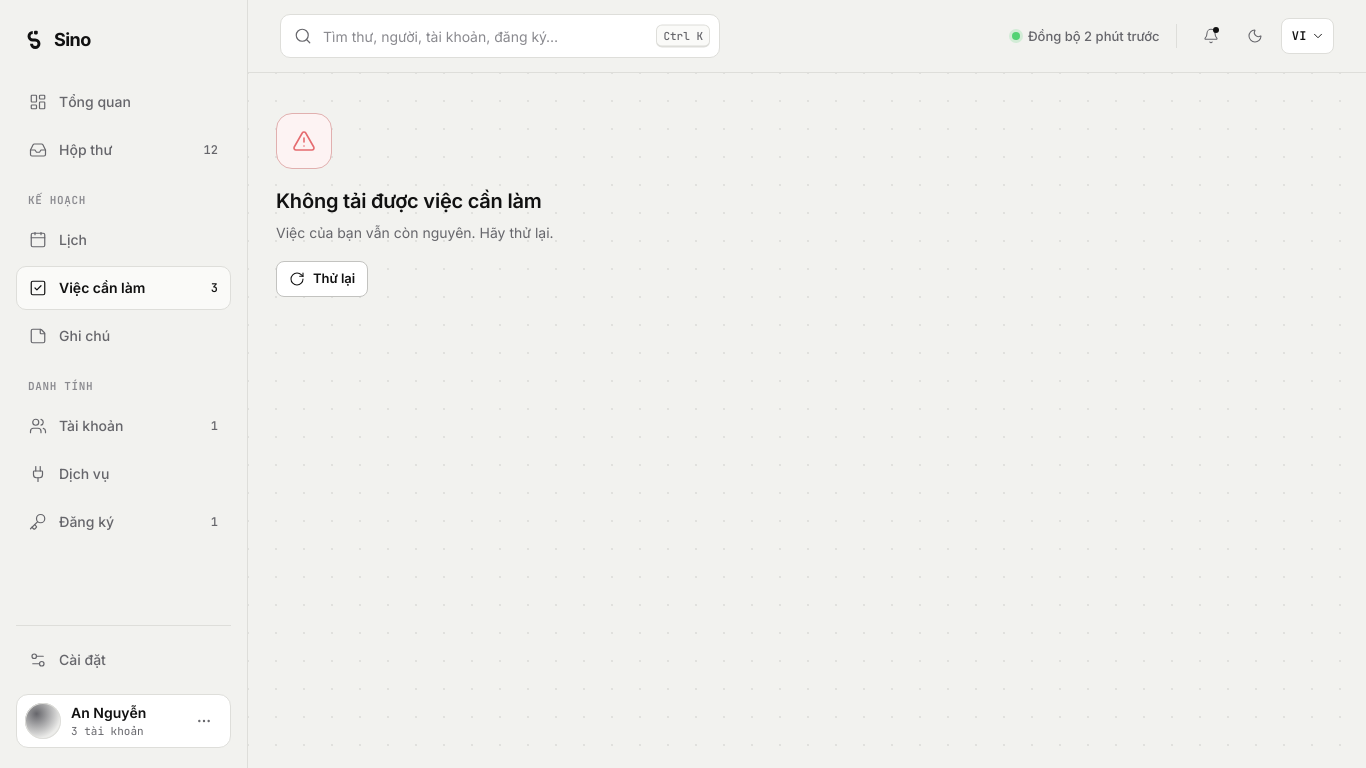
Scenario: states of the Việc cần làm screen › says so when the list cannot load, and loads it on "Thử lại"
The width and height of the screenshot is (1366, 768).
Expected: the heading "Không tải được việc cần làm" is shown, left=276, top=187, right=554, bottom=215
Click the button "Thử lại": point(322, 279) left=276, top=261, right=368, bottom=297
(page scrolled)
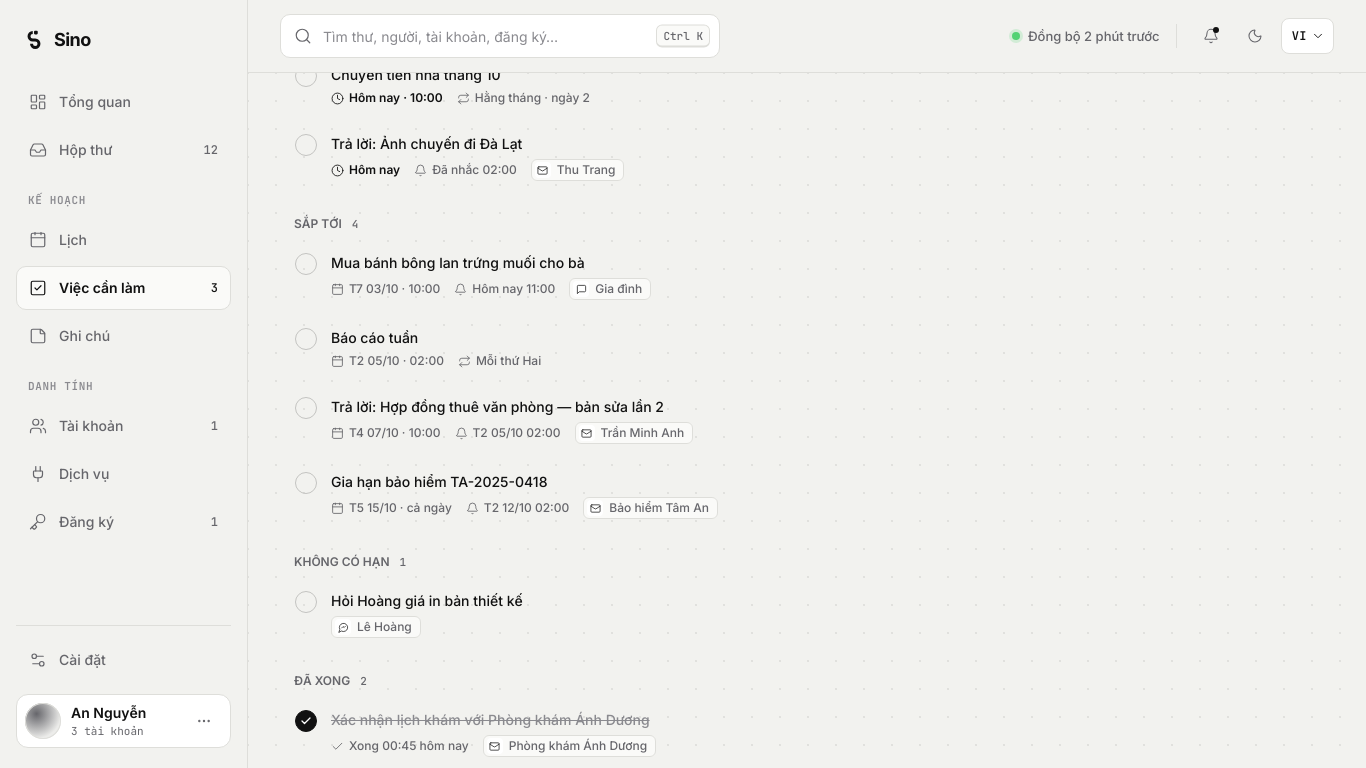
Now the link "Hợp đồng thuê" is shown, box left=331, top=398, right=693, bottom=444
